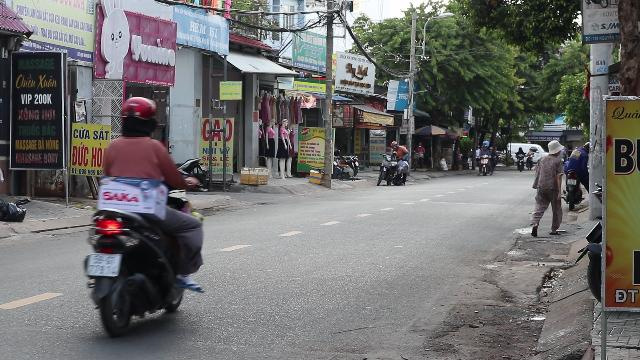helmet: (115, 96, 159, 138)
licenseplate: (87, 253, 119, 275)
motorcyclist: (82, 94, 206, 336)
